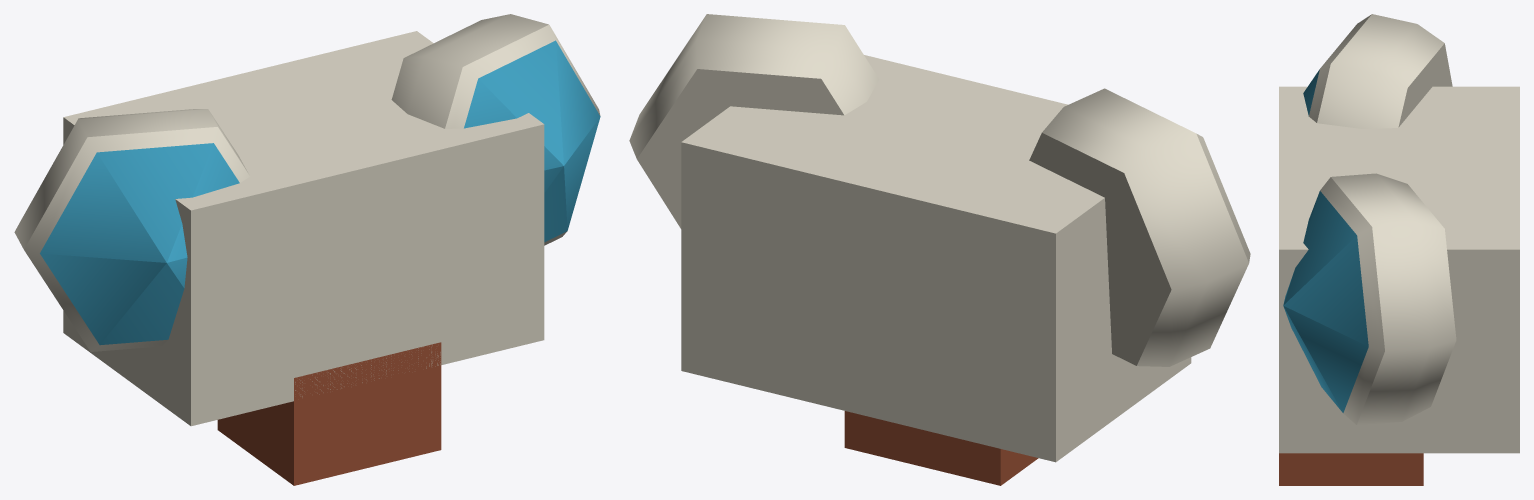
Rendered from rm2_head.obj.
3 views of the same model, side by side, from view 1: azimuth 30°, elevation 25°; view 2: azimuth 150°, elevation 25°; view 3: azimuth 270°, elevation 25° (orthographic). The views are drawn at different scales.
Visible parts, largest first — view 1: rm2_head; view 2: rm2_head; view 3: rm2_head.
Boxes of the visible parts, x1,y1,x2,y2 form: rm2_head: (14, 14, 600, 485); rm2_head: (629, 14, 1250, 485); rm2_head: (1279, 14, 1519, 485).
Size of the model in its own units: 0.3905 by 0.2277 by 0.15.
